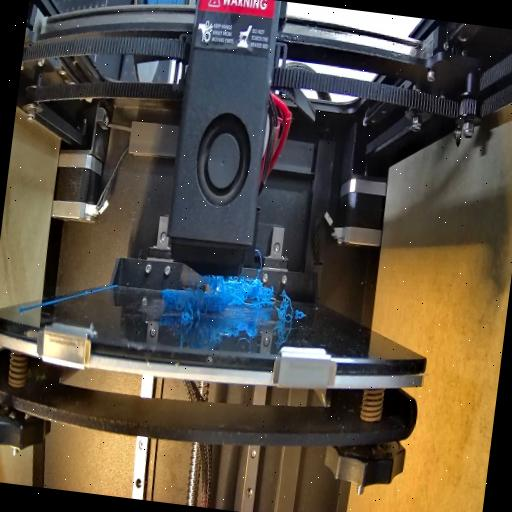spaghetti: (196, 270, 294, 314), (175, 288, 207, 324)
